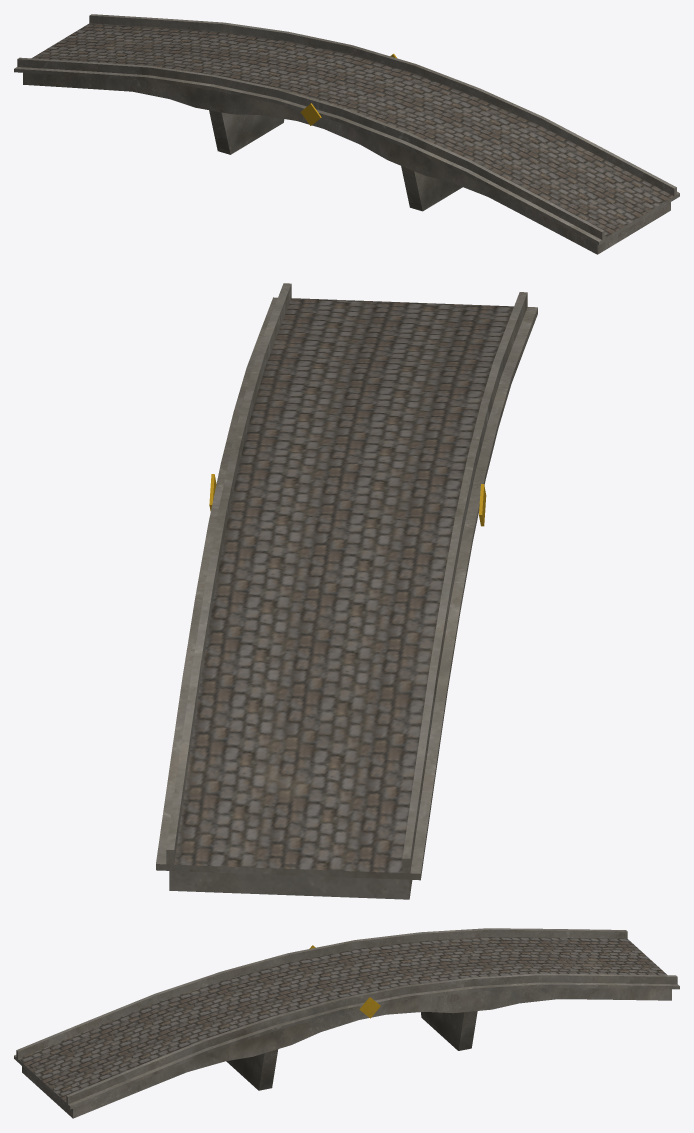
3 renders of one model, top to bottom at view 1: azimuth 30°, elevation 25°; view 2: azimuth 150°, elevation 25°; view 3: azimuth 270°, elevation 25°, orthographic. The views are drawn at different scales.
Visible parts, largest first — view 1: Bridge; view 2: Bridge; view 3: Bridge.
Part boxes in pixels (<box>): Bridge: <box>14,14,679,254</box>; Bridge: <box>156,283,537,899</box>; Bridge: <box>14,928,679,1118</box>.
Size of the model in its own units: 141 by 31.84 by 232.
Materials: 1 (1 with a texture image).
